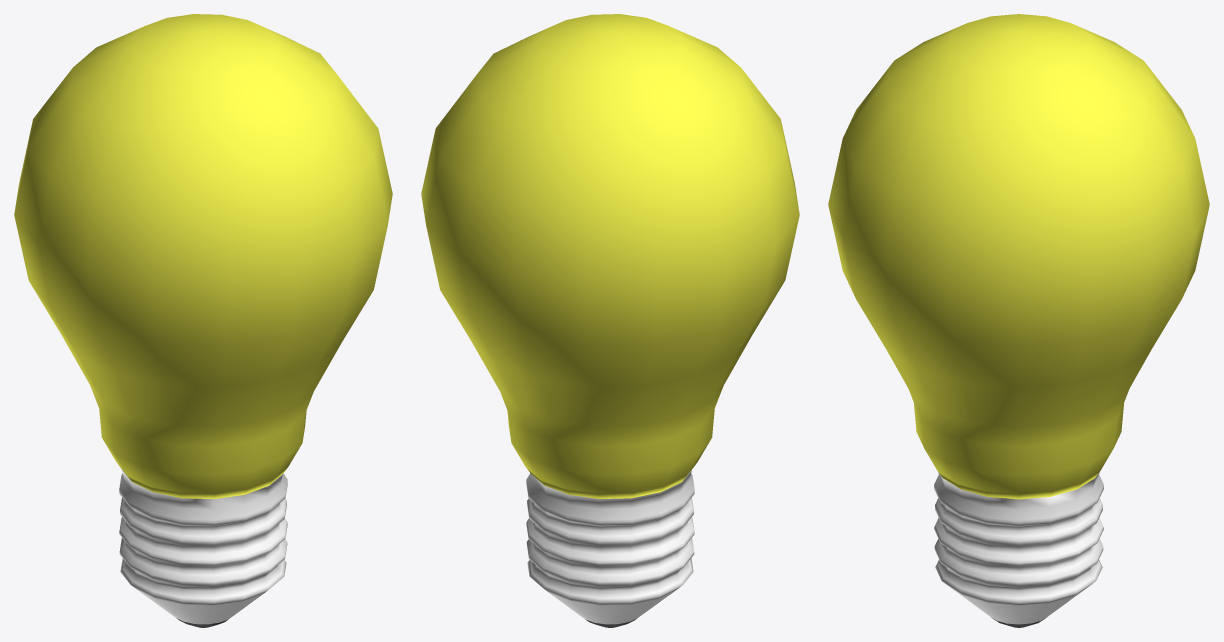
Rendered from whiteLamp.glb.
3 views of the same model, side by side, from view 1: azimuth 30°, elevation 25°; view 2: azimuth 150°, elevation 25°; view 3: azimuth 270°, elevation 25° (orthographic).
Visible parts, largest first — view 1: Sphere, Sphere.001; view 2: Sphere, Sphere.001; view 3: Sphere, Sphere.001.
Part boxes in pixels (<box>): Sphere: <box>14,14,392,498</box>; Sphere.001: <box>119,470,287,627</box>; Sphere: <box>421,14,799,498</box>; Sphere.001: <box>526,470,694,627</box>; Sphere: <box>828,14,1209,499</box>; Sphere.001: <box>934,472,1103,627</box>.
Bounding box in the file's own units: 2.85 × 4.88 × 2.85.
Materials: 7 (1 with a texture image).
